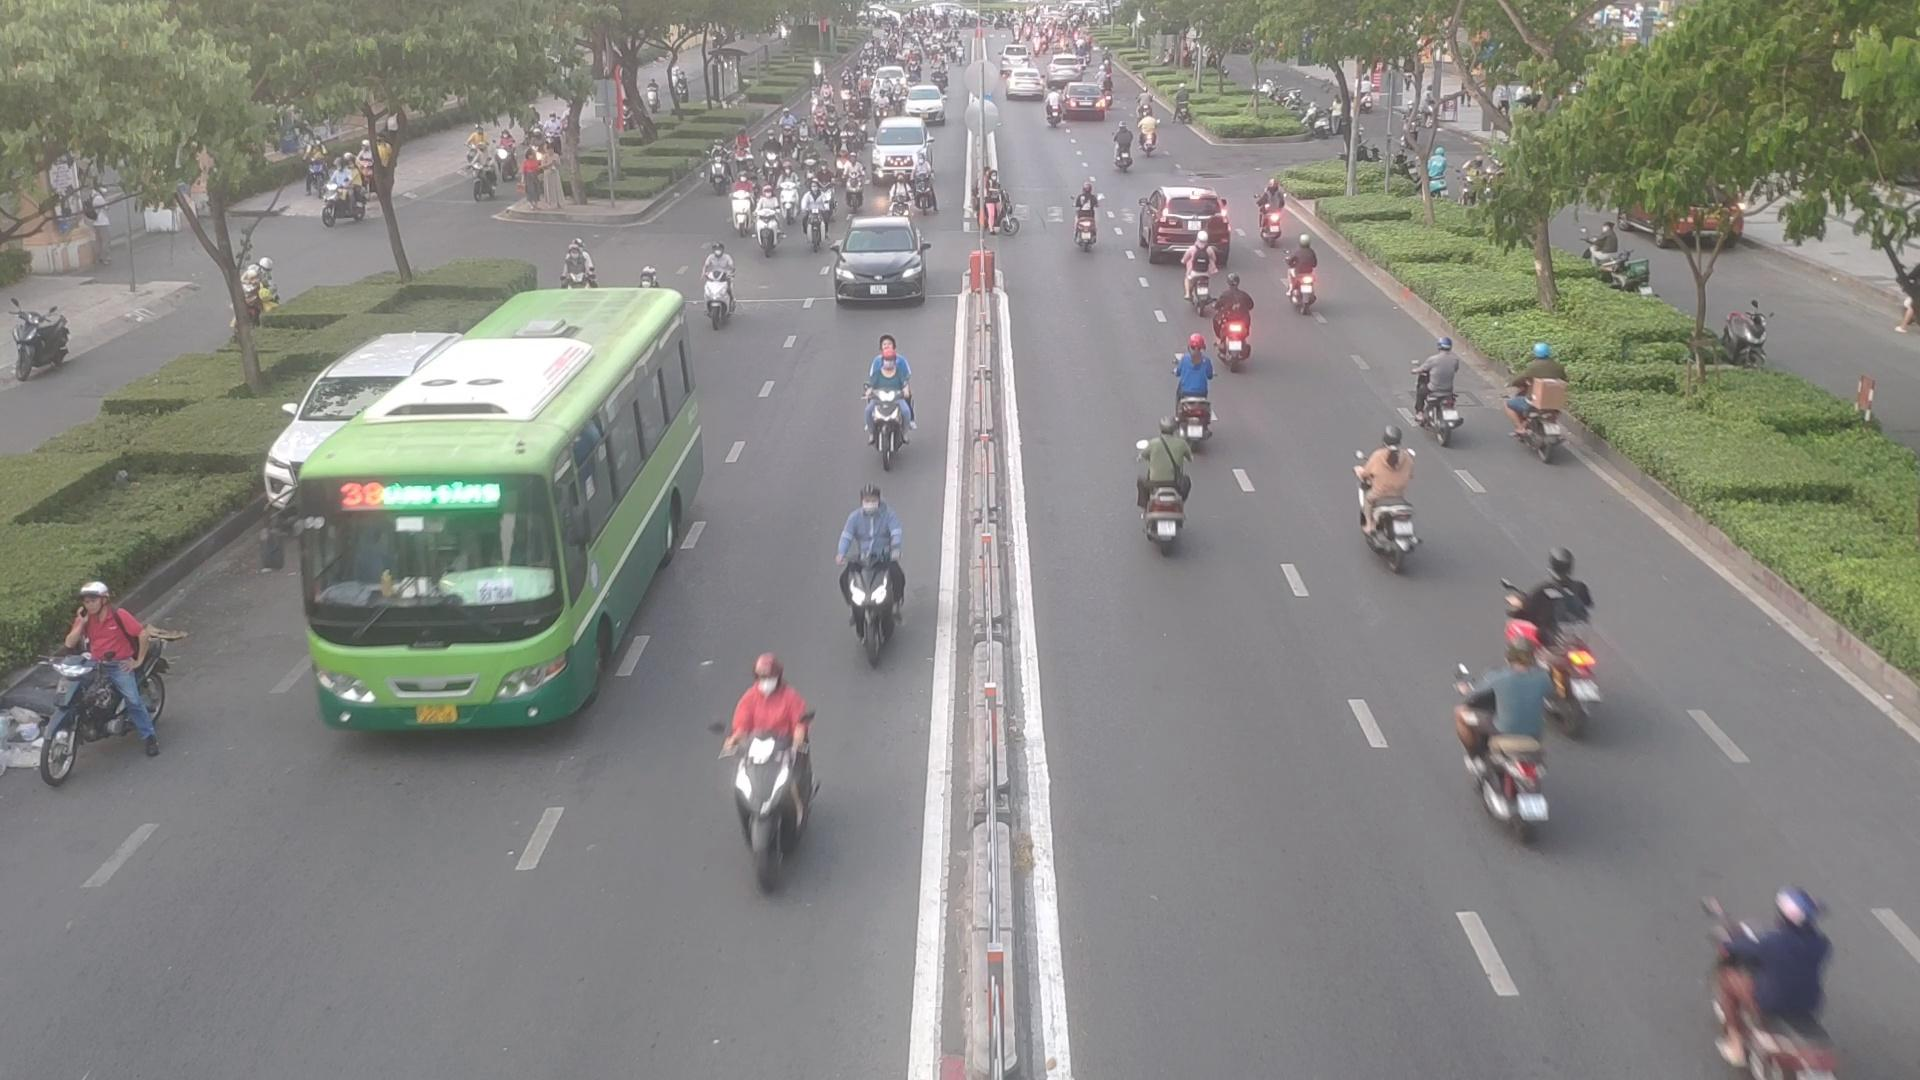bus: (295, 290, 691, 735)
car: (828, 218, 928, 305), (1138, 189, 1236, 265)
motorbike: (1698, 878, 1854, 1077), (20, 585, 171, 767), (719, 667, 824, 868), (1491, 562, 1607, 735), (1455, 661, 1564, 837), (833, 492, 909, 655), (1345, 430, 1422, 563), (1125, 423, 1196, 546), (1506, 347, 1573, 473), (855, 340, 916, 455), (1411, 340, 1477, 436), (1209, 274, 1270, 375), (1176, 340, 1211, 443), (698, 247, 742, 324), (1282, 245, 1321, 316), (1067, 186, 1105, 252), (1185, 233, 1216, 314), (1253, 191, 1296, 247), (746, 196, 785, 258), (803, 179, 836, 243), (840, 160, 869, 211), (1104, 131, 1137, 171), (913, 167, 940, 215), (869, 149, 901, 185)
